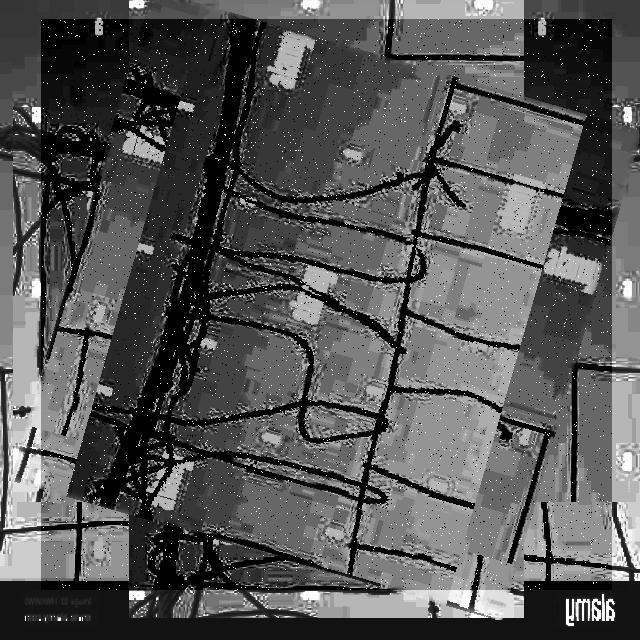anomaly-fence: (41, 19, 612, 590)
